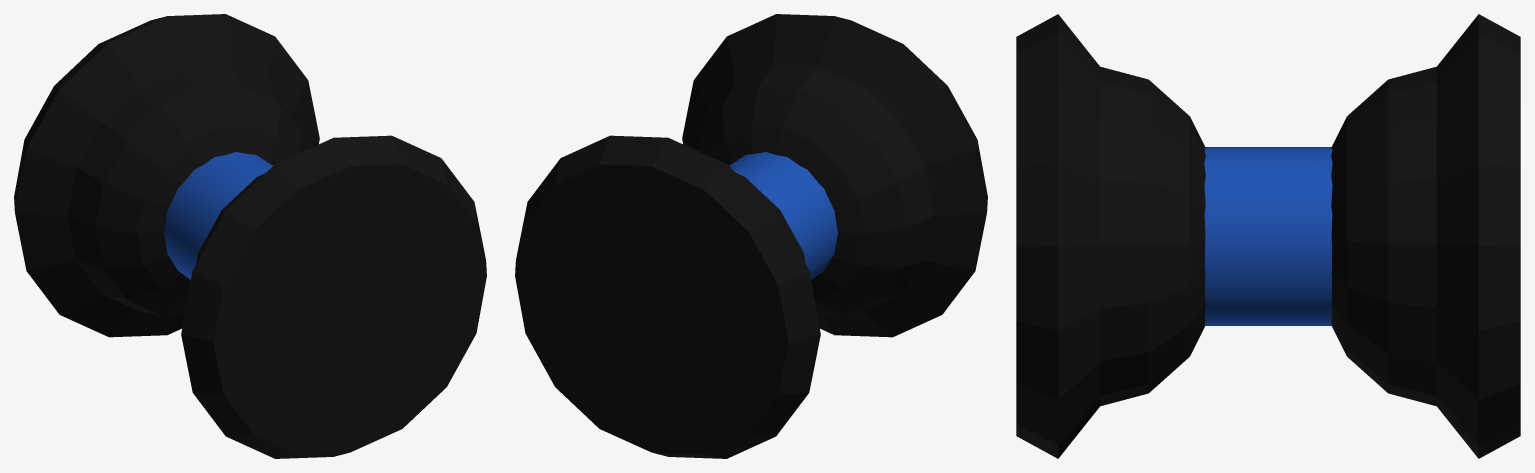
File: SpinnyThing.FBX
3 renders of one model, left to right at view 1: azimuth 30°, elevation 25°; view 2: azimuth 150°, elevation 25°; view 3: azimuth 270°, elevation 25°, orthographic. The views are drawn at different scales.
Parts seen in each view (by area): view 1: Sphere002, Sphere001, Cylinder001; view 2: Sphere001, Sphere002, Cylinder001; view 3: Sphere001, Sphere002, Cylinder001.
Boxes of the visible parts, x1,y1,x2,y2 form: Sphere002: (181, 135, 486, 458); Sphere001: (14, 14, 319, 337); Cylinder001: (164, 152, 272, 279); Sphere001: (515, 135, 820, 458); Sphere002: (682, 14, 987, 337); Cylinder001: (729, 152, 837, 279); Sphere001: (1331, 14, 1520, 458); Sphere002: (1016, 14, 1205, 458); Cylinder001: (1204, 147, 1332, 325).
Bounding box in the file's own units: 39.69 × 39.69 × 44.94.
